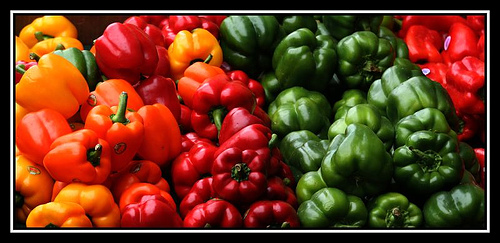capsicum: (392, 131, 464, 194), (208, 147, 270, 206), (43, 129, 111, 180)
